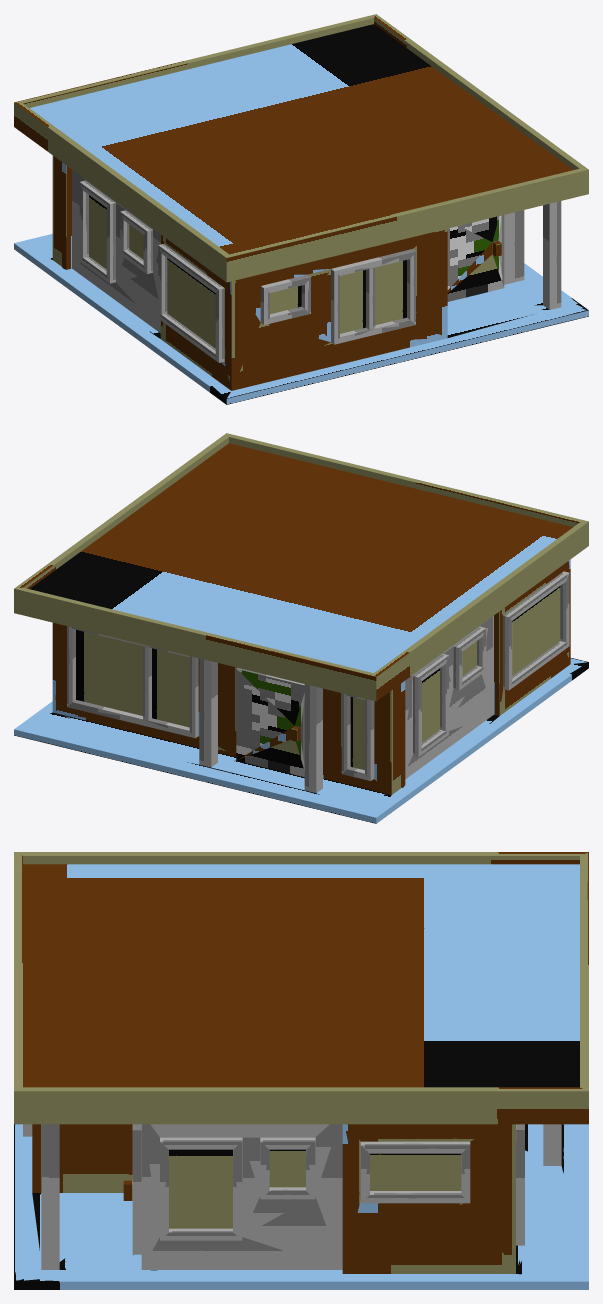
File: obj_house1b.fbx
3 renders of one model, top to bottom at view 1: azimuth 30°, elevation 25°; view 2: azimuth 150°, elevation 25°; view 3: azimuth 270°, elevation 25°, orthographic. The views are drawn at different scales.
Parts seen in each view (by area): view 1: obj_house1b; view 2: obj_house1b; view 3: obj_house1b.
Part boxes in pixels (x1,y1,x2,y2): obj_house1b: [14, 14, 588, 404]; obj_house1b: [14, 433, 588, 823]; obj_house1b: [14, 852, 588, 1289].
Bounding box in the file's own units: 6.2 × 6.3 × 2.4.
